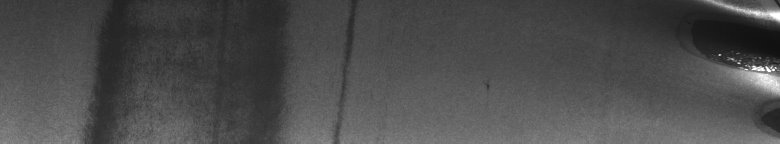ke: (704, 4, 776, 136)
